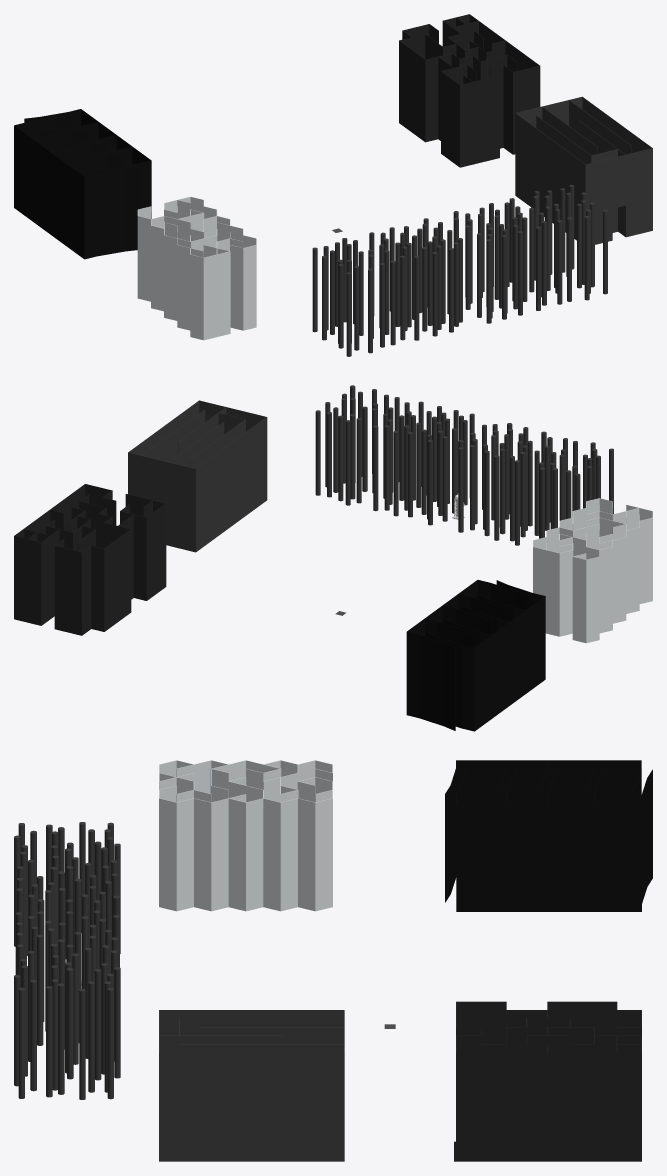
The model's file is project7.glb.
The picture shows the model from 3 angles, top to bottom: view 1: azimuth 30°, elevation 25°; view 2: azimuth 150°, elevation 25°; view 3: azimuth 270°, elevation 25°; orthographic projection. The views are drawn at different scales.
Visible parts, largest first — view 1: Plane.005, Plane.007, Plane.003, Plane.006, Plane.004; view 2: Plane.005, Plane.007, Plane.003, Plane.006, Plane.004; view 3: Plane.003, Plane.007, Plane.006, Plane.005, Plane.004.
Part boxes in pixels (box(x1,y1,x2,y2)): Plane.005: box(312, 185, 607, 356); Plane.007: box(399, 14, 540, 167); Plane.003: box(14, 109, 151, 259); Plane.006: box(515, 96, 652, 244); Plane.004: box(137, 196, 256, 340); Plane.005: box(315, 385, 613, 545); Plane.007: box(14, 484, 166, 635); Plane.003: box(406, 580, 545, 731); Plane.006: box(128, 400, 267, 552); Plane.004: box(533, 498, 652, 643); Plane.003: box(445, 760, 652, 911); Plane.007: box(454, 1001, 641, 1161); Plane.006: box(159, 1010, 344, 1161); Plane.005: box(14, 822, 120, 1099); Plane.004: box(159, 760, 332, 911).
Size of the model in its own units: 31.5 by 6.02 by 29.04.
9 materials, 4 textured.
